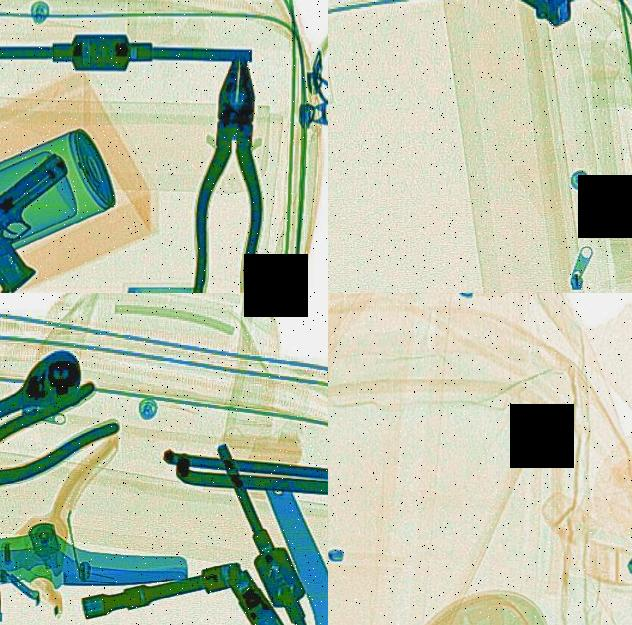Gun: (0, 147, 124, 293), (461, 0, 628, 45)
Pliers: (0, 376, 127, 546), (186, 53, 272, 293)
